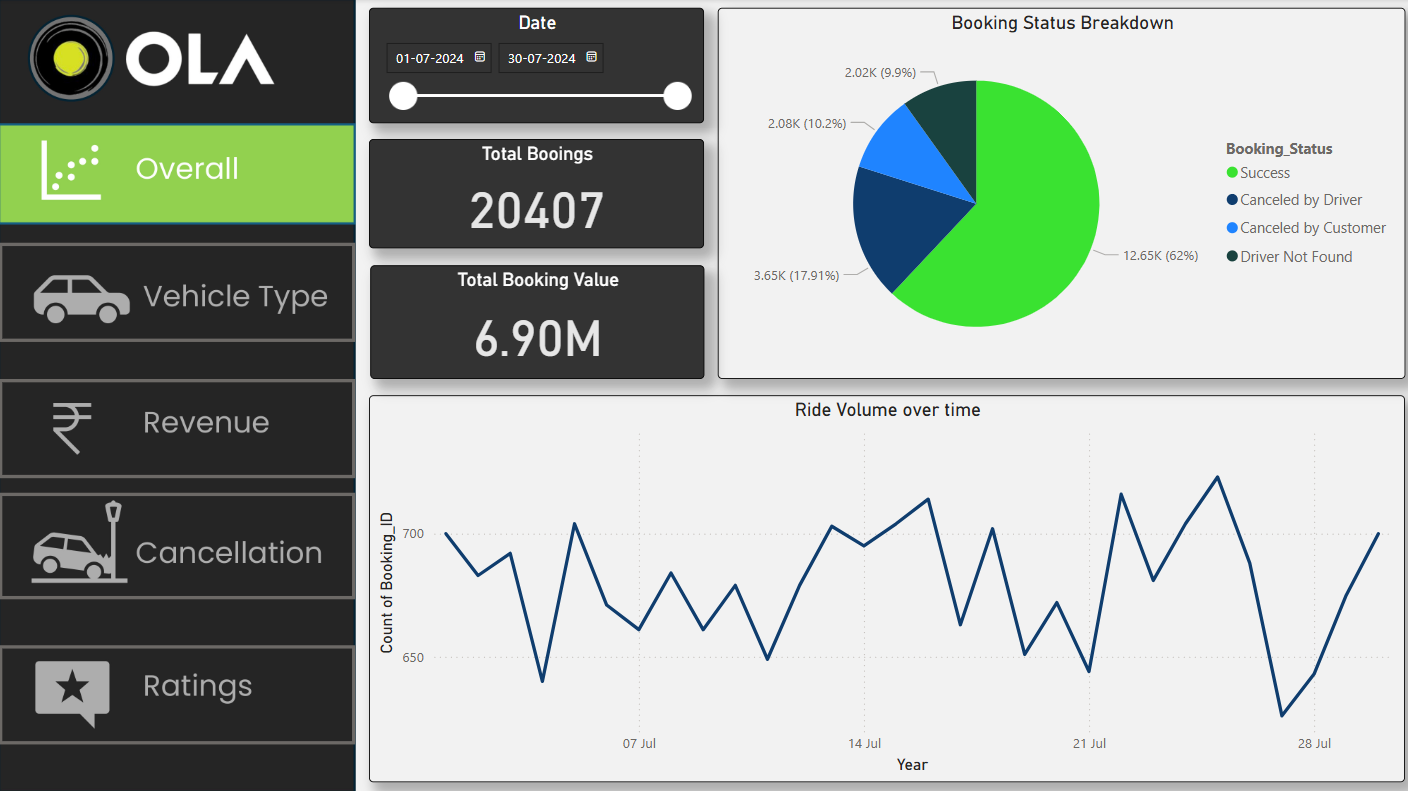

Layout of this report page (visuals, bound fields, positions):
{"tool":"powerbi","page":{"name":"Overall","canvas":[1280,720],"ordinal":0},"visuals":[{"type":"actionButton","box":[0,221.7,323.3,90],"z":0},{"type":"actionButton","box":[0,345,323.3,90],"z":1000},{"type":"actionButton","box":[0,448.3,323.3,96.7],"z":2000},{"type":"actionButton","box":[0,586.7,323.3,90],"z":3000},{"type":"lineChart","title":"Ride Volume over time","fields":{"Y":["CountNonNull(July.Booking_ID)"],"Category":["July.Date.Variation.Date Hierarchy.Year","July.Date.Variation.Date Hierarchy.Quarter","July.Date.Variation.Date Hierarchy.Month","July.Date.Variation.Date Hierarchy.Day"]},"box":[336,360.1,939.9,351.1],"z":4000},{"type":"pieChart","title":"Booking Status Breakdown","fields":{"Category":["July.Booking_Status"],"Y":["CountNonNull(July.Booking_ID)"]},"box":[651.7,8.4,624.2,336.5],"z":5000},{"type":"slicer","title":"Date","fields":{"Values":["July.Date"]},"box":[336,8,304,104.7],"z":6000},{"type":"card","title":"Total Booings","fields":{"Values":["CountNonNull(July.Booking_ID)"]},"box":[336,126.7,304,99.3],"z":7000},{"type":"card","title":"Total Booking Value","fields":{"Values":["Sum(July.Booking_Value)"]},"box":[336.7,241.7,303.3,103.3],"z":8000}]}

Visuals, with their boxes in screenshot pixels (x1, y1, x2, y2), scaled from the page's 1280x720 canvas onto the 1408x791 screenshot:
actionButton: [left=0, top=244, right=356, bottom=342]
actionButton: [left=0, top=379, right=356, bottom=478]
actionButton: [left=0, top=493, right=356, bottom=599]
actionButton: [left=0, top=645, right=356, bottom=743]
"Ride Volume over time" lineChart: [left=370, top=396, right=1403, bottom=781]
"Booking Status Breakdown" pieChart: [left=717, top=9, right=1403, bottom=379]
"Date" slicer: [left=370, top=9, right=704, bottom=124]
"Total Booings" card: [left=370, top=139, right=704, bottom=248]
"Total Booking Value" card: [left=370, top=266, right=704, bottom=379]
